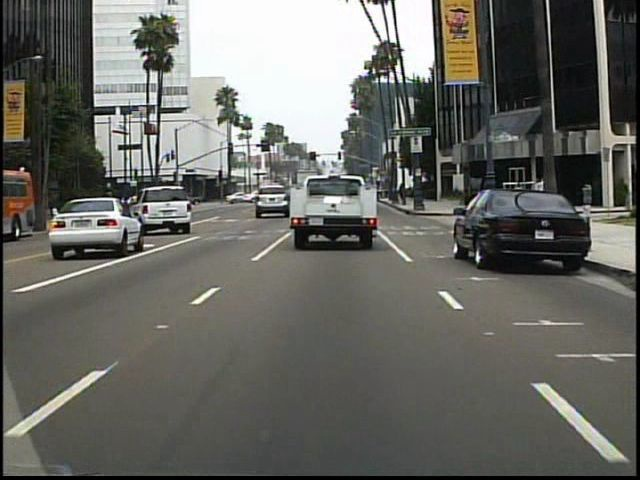person: (536, 175, 552, 213)
